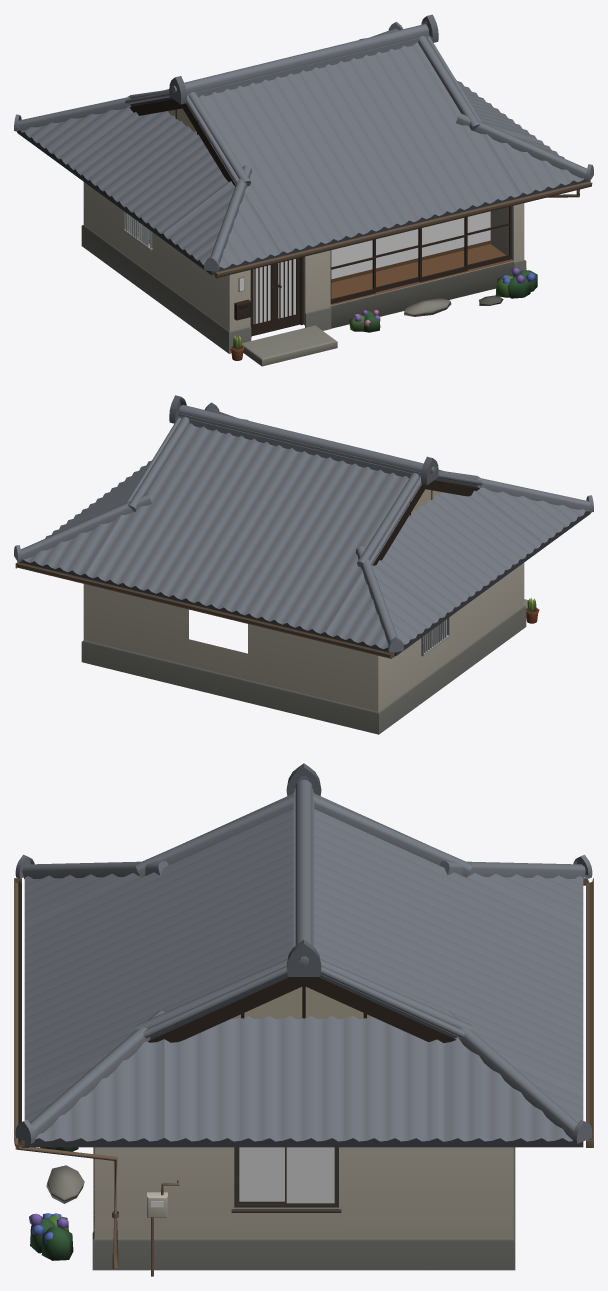
Rendered from BungalowKM.fbx.
3 views of the same model, one above another, from view 1: azimuth 30°, elevation 25°; view 2: azimuth 150°, elevation 25°; view 3: azimuth 270°, elevation 25° (orthographic). The views are drawn at different scales.
Visible parts, largest first — view 1: BungalowKM; view 2: BungalowKM; view 3: BungalowKM.
Part boxes in pixels (box(x1,y1,x2,y2)): BungalowKM: box(14, 14, 593, 366); BungalowKM: box(14, 395, 593, 734); BungalowKM: box(14, 763, 593, 1276).
Bounding box in the file's own units: 9.27 × 5 × 8.31.
